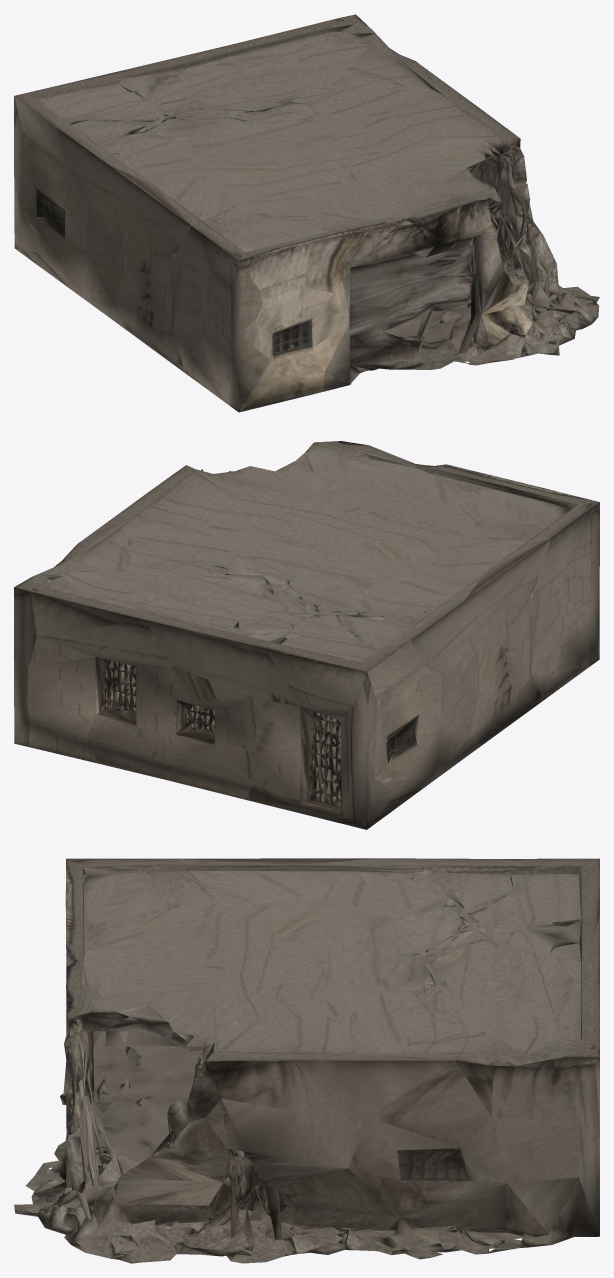
File: warehouse_wreck.glb
3 views of the same model, one above another, from view 1: azimuth 30°, elevation 25°; view 2: azimuth 150°, elevation 25°; view 3: azimuth 270°, elevation 25° (orthographic). The views are drawn at different scales.
Visible parts, largest first — view 1: wall, metal; view 2: wall, metal; view 3: metal, wall.
Boxes of the visible parts, bbox=[...] form: wall: bbox=[14, 25, 599, 412]; metal: bbox=[14, 14, 599, 384]; wall: bbox=[14, 452, 599, 829]; metal: bbox=[14, 441, 599, 814]; metal: bbox=[14, 858, 599, 1263]; wall: bbox=[14, 858, 599, 1263].
Bounding box in the file's own units: 10.91 × 4.12 × 11.99.
1 material, 1 textured.
